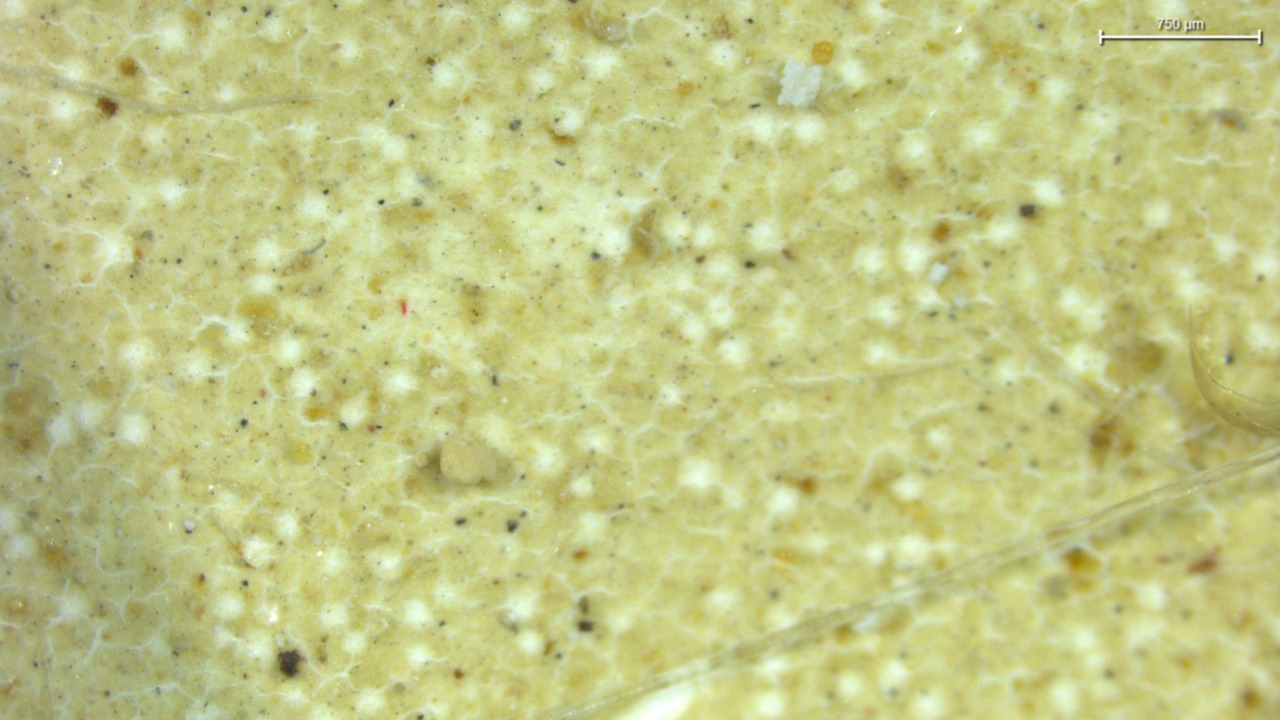microplastic_fragment: (440, 432, 496, 488), (778, 56, 822, 109)
